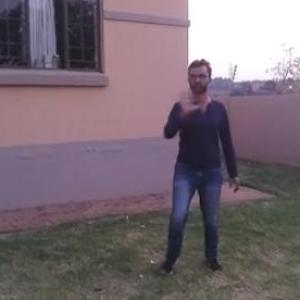follow_hand: (167, 83, 201, 115)
